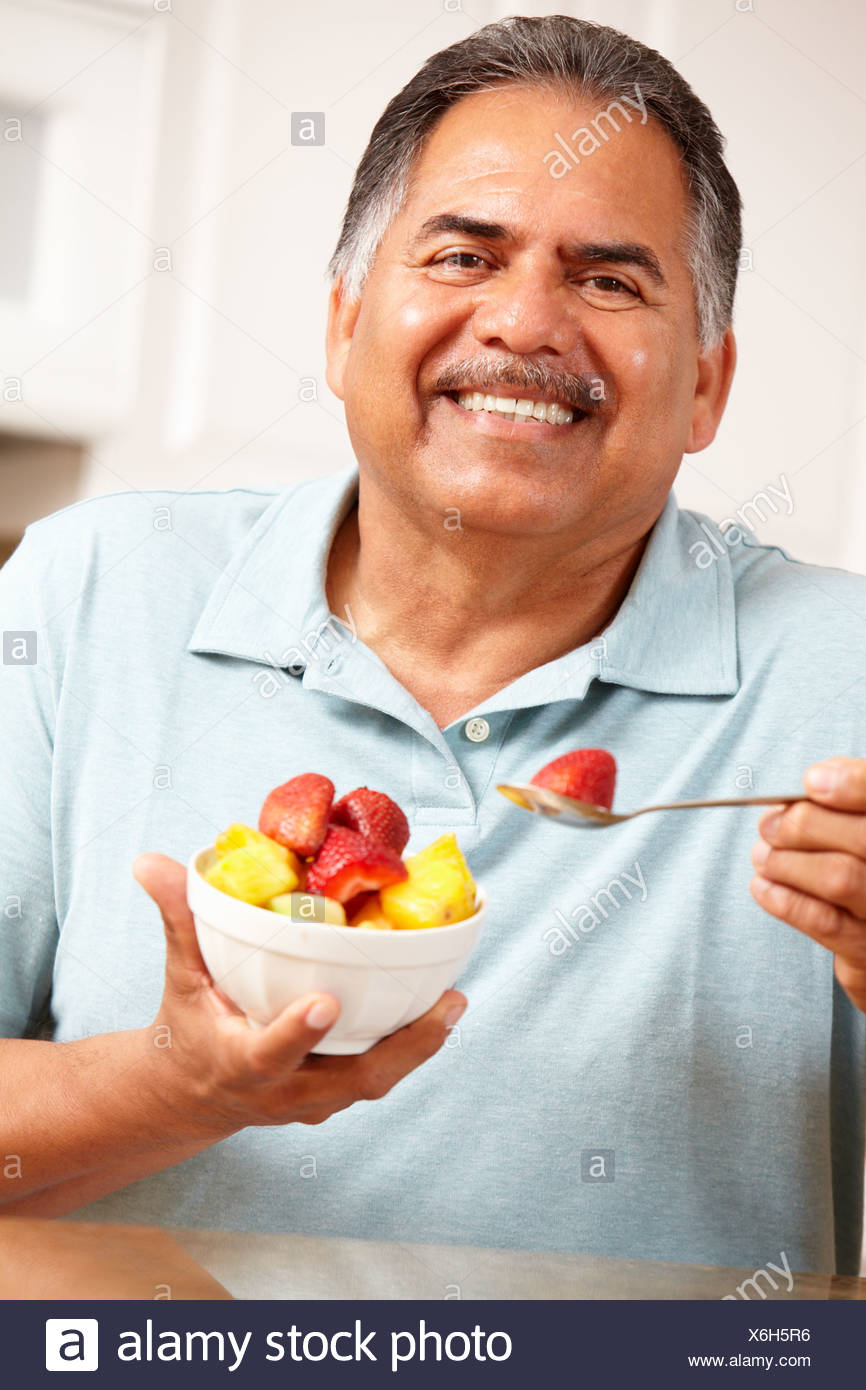drinking: (240, 12, 831, 936)
